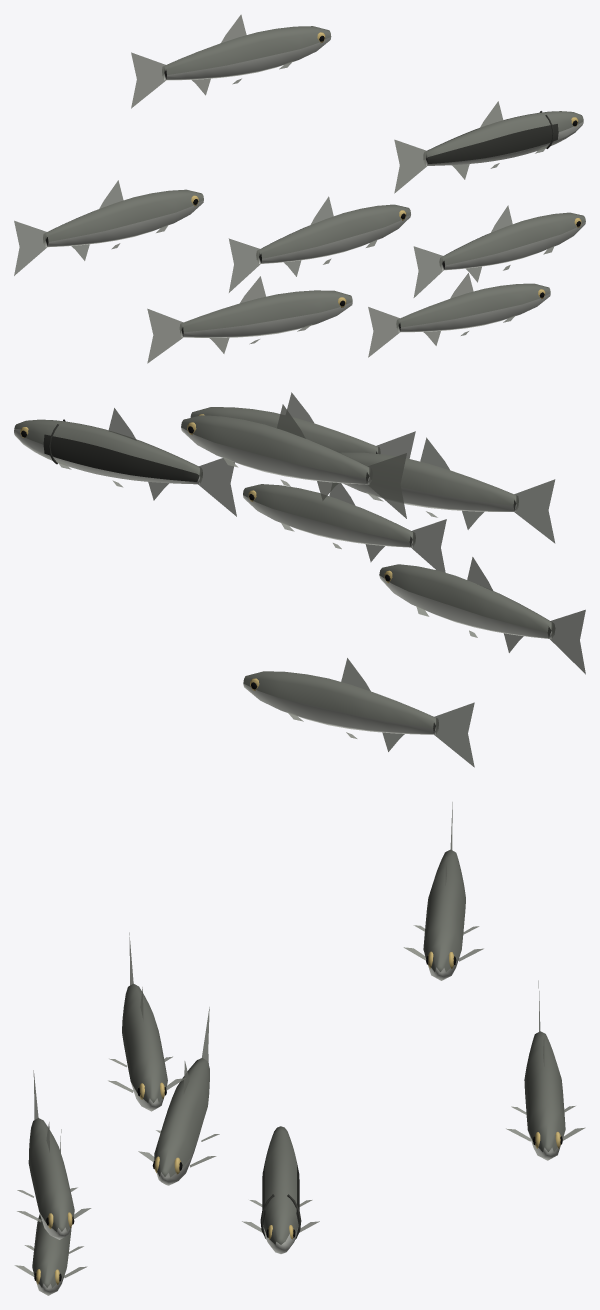
File: lake-amur-chebachok-shallows-0.glb
3 views of the same model, one above another, from view 1: azimuth 30°, elevation 25°; view 2: azimuth 150°, elevation 25°; view 3: azimuth 270°, elevation 25° (orthographic). The views are drawn at different scales.
Visible parts, largest first — view 1: lake-amur-chebachok-shallows-0; view 2: lake-amur-chebachok-shallows-0; view 3: lake-amur-chebachok-shallows-0.
Part boxes in pixels (x1,y1,x2,y2): lake-amur-chebachok-shallows-0: [14, 14, 585, 363]; lake-amur-chebachok-shallows-0: [14, 392, 585, 767]; lake-amur-chebachok-shallows-0: [14, 802, 585, 1295].
Bounding box in the file's own units: 0.2057 × 0.1029 × 0.1473.
